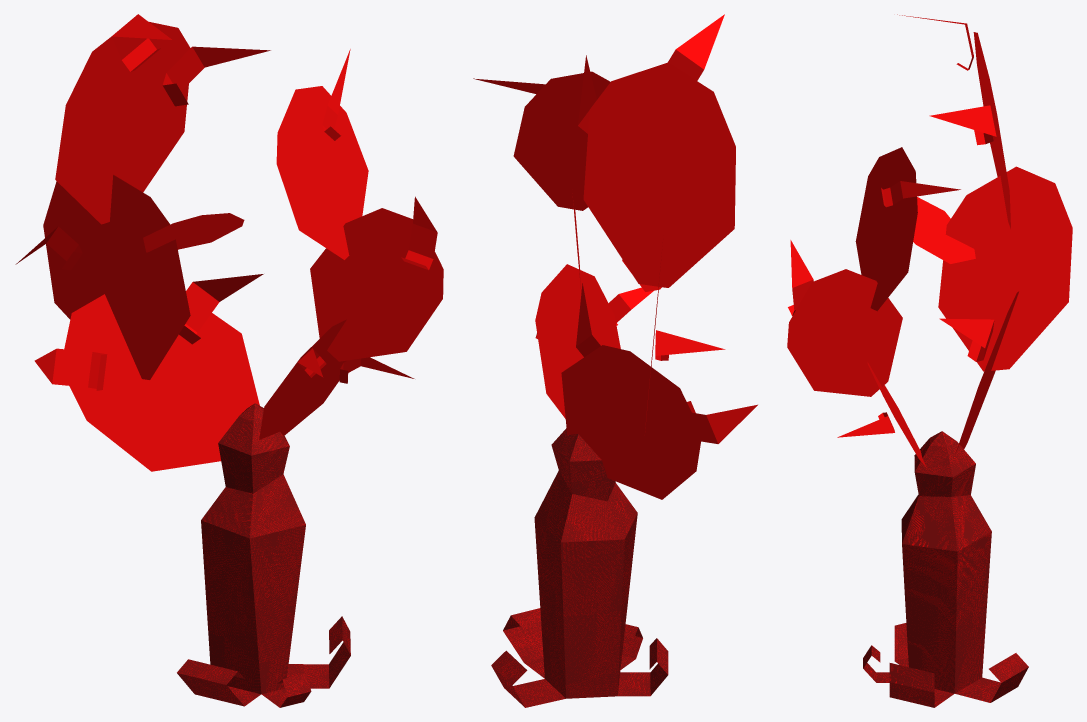
Rendered from tree_1.FBX.
The picture shows the model from 3 angles, left to right: view 1: azimuth 30°, elevation 25°; view 2: azimuth 150°, elevation 25°; view 3: azimuth 270°, elevation 25°; orthographic projection. The views are drawn at different scales.
Visible parts, largest first — view 1: cactus_color_1, cactus_color_2, cactus_inside, cactus_thorn; view 2: cactus_color_1, cactus_inside, cactus_color_2, cactus_thorn; view 3: cactus_color_2, cactus_color_1, cactus_inside, cactus_thorn.
Part boxes in pixels (x1,y1,x2,y2): cactus_color_1: (55, 22, 443, 706); cactus_color_2: (43, 86, 368, 439); cactus_inside: (177, 403, 350, 707); cactus_thorn: (15, 14, 437, 390); cactus_color_1: (492, 62, 735, 707); cactus_inside: (491, 428, 668, 707); cactus_color_2: (513, 71, 663, 435); cactus_thorn: (473, 14, 757, 443); cactus_color_2: (855, 147, 1072, 467); cactus_color_1: (787, 32, 1027, 706); cactus_inside: (863, 431, 1028, 707); cactus_thorn: (788, 14, 996, 437).
Bounding box in the file's own units: 4009 × 3640 × 8648.
